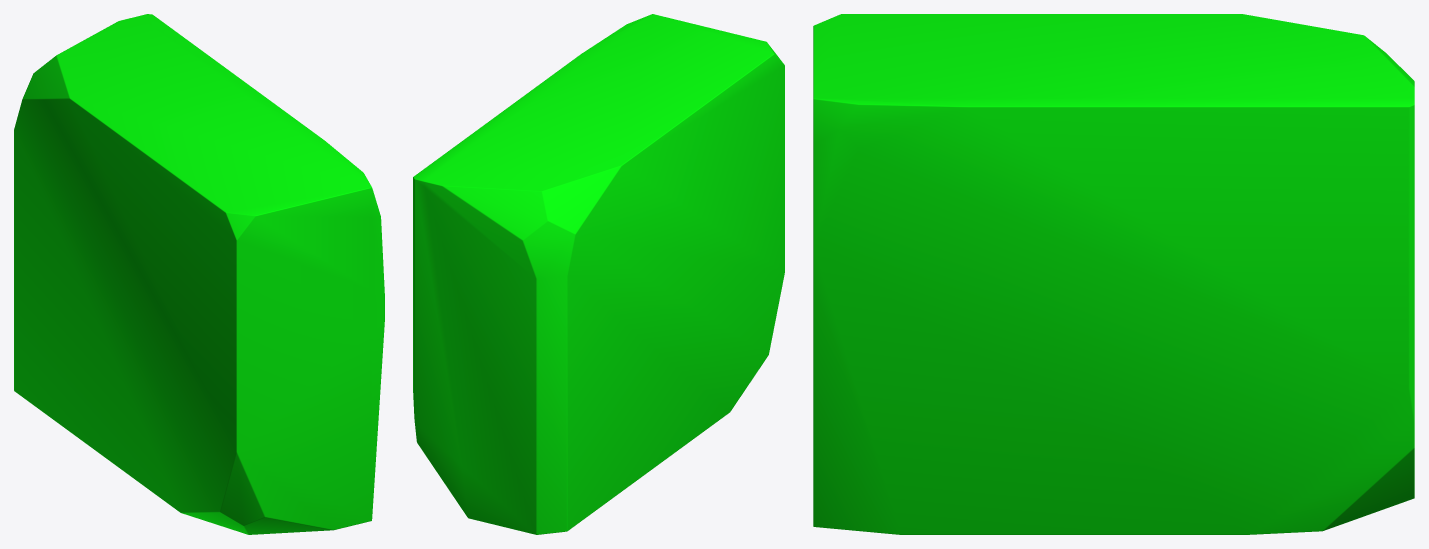
Rendered from Green_Crystal_09.fbx.
3 renders of one model, left to right at view 1: azimuth 30°, elevation 25°; view 2: azimuth 150°, elevation 25°; view 3: azimuth 270°, elevation 25°, orthographic. The views are drawn at different scales.
Visible parts, largest first — view 1: Green_Crystal_09; view 2: Green_Crystal_09; view 3: Green_Crystal_09.
Boxes of the visible parts, x1,y1,x2,y2 form: Green_Crystal_09: (14,14,384,534); Green_Crystal_09: (413,14,784,534); Green_Crystal_09: (813,14,1414,534).
Size of the model in its own units: 1.2 by 2.58 by 3.28.
